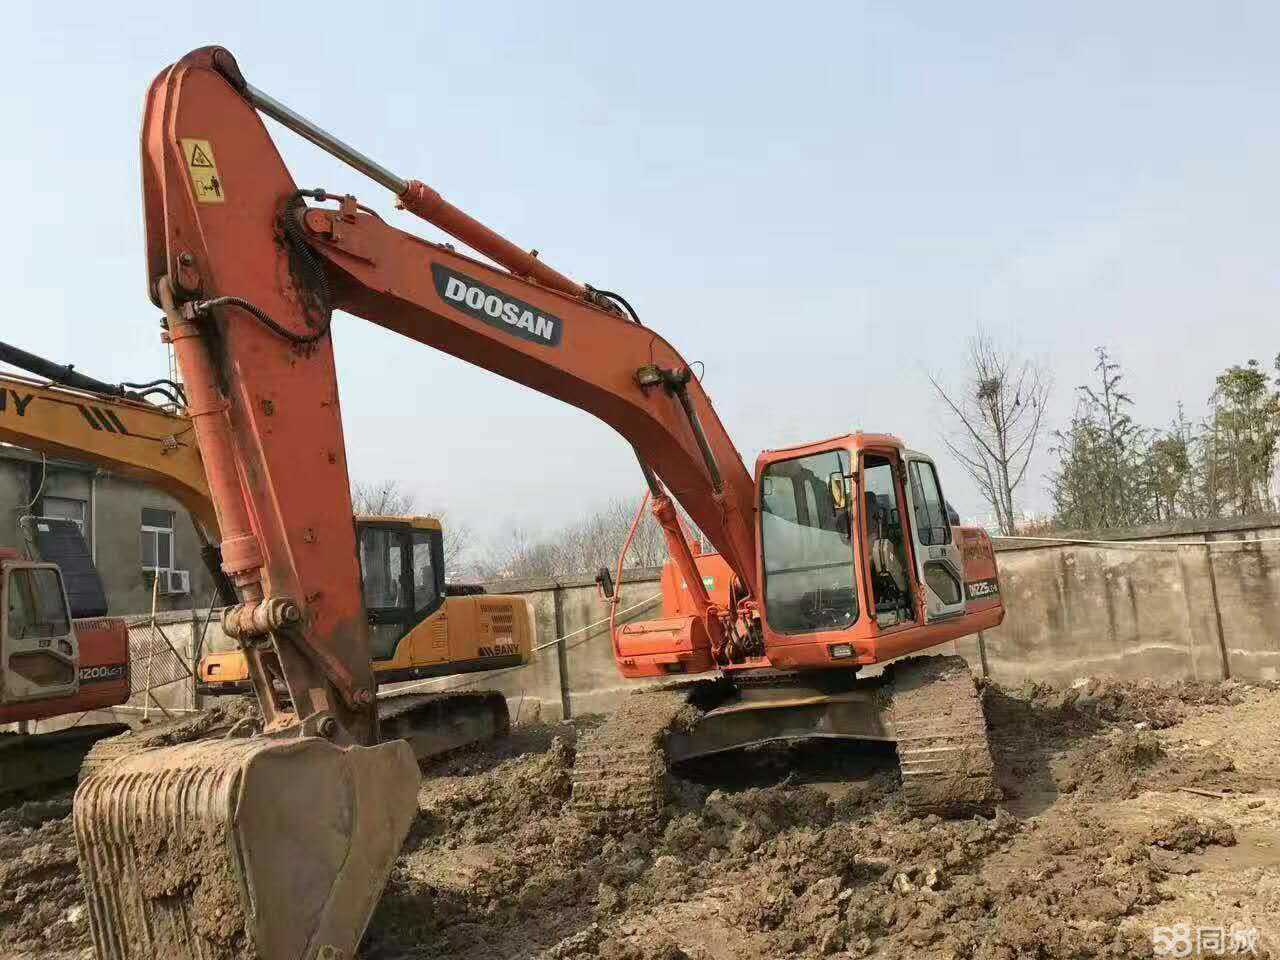excavator: (54, 30, 1061, 956)
